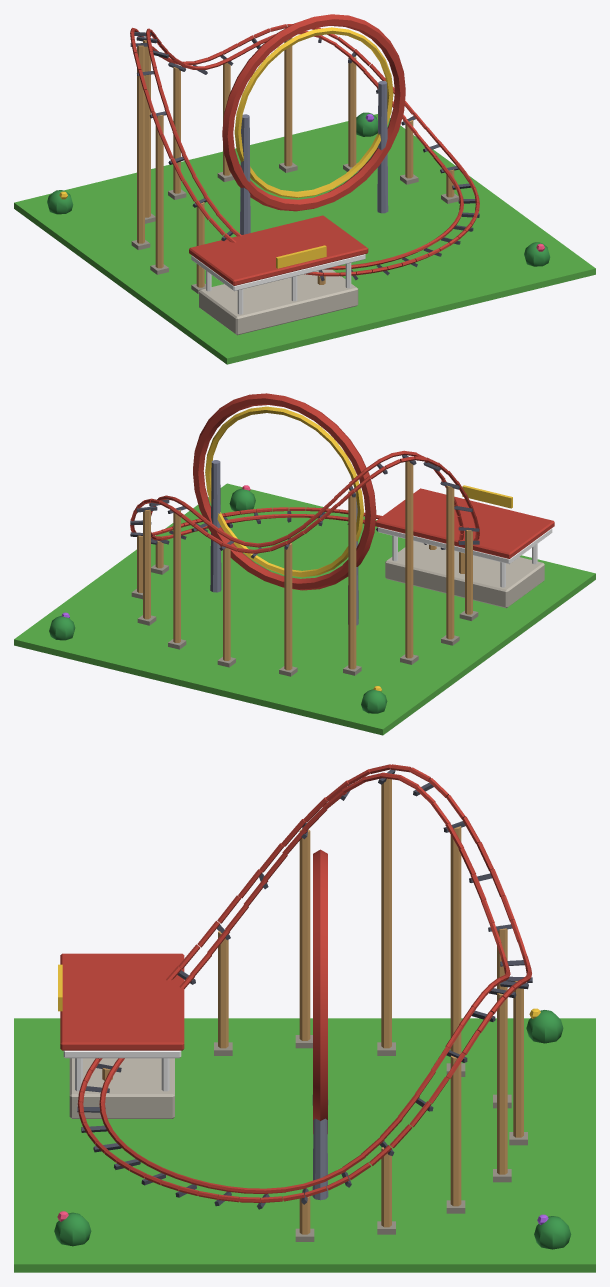
The model's file is roller-coaster.glb.
3 views of the same model, one above another, from view 1: azimuth 30°, elevation 25°; view 2: azimuth 150°, elevation 25°; view 3: azimuth 270°, elevation 25° (orthographic). The views are drawn at different scales.
Visible parts, largest first — view 1: model; view 2: model; view 3: model.
Part boxes in pixels (<box>): model: <box>14,14,595,364</box>; model: <box>14,393,595,735</box>; model: <box>14,764,595,1272</box>.
Bounding box in the file's own units: 3.76 × 2.12 × 3.76.
1 material, 1 textured.
